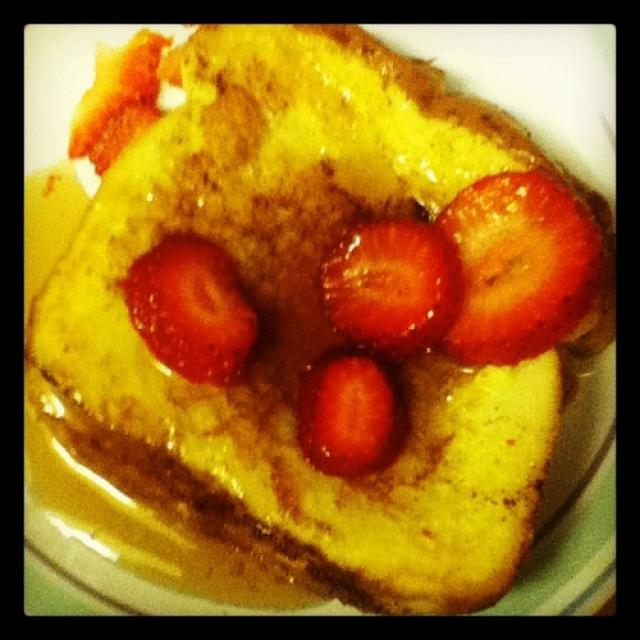面包点心: (36, 37, 605, 608)
